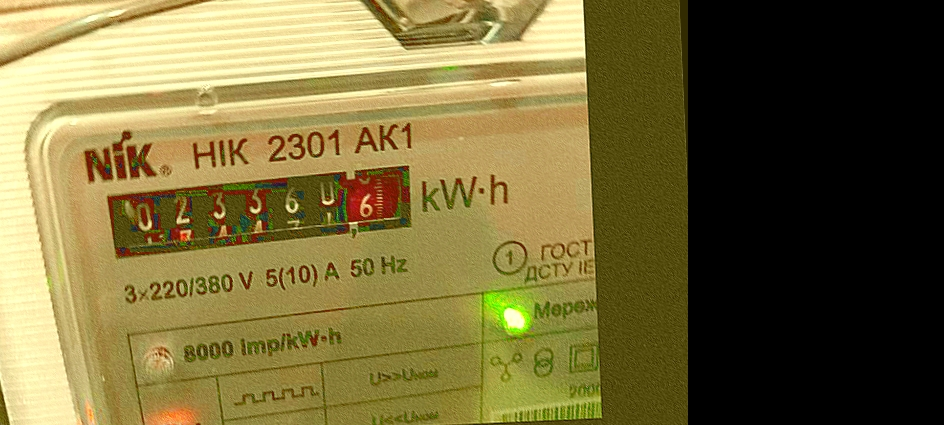0: (132, 199, 156, 234), (314, 177, 338, 209)
2: (171, 193, 193, 226)
3: (245, 182, 265, 216), (207, 190, 227, 222)
6: (280, 183, 302, 217), (355, 188, 377, 222)
screen: (89, 156, 431, 266)
